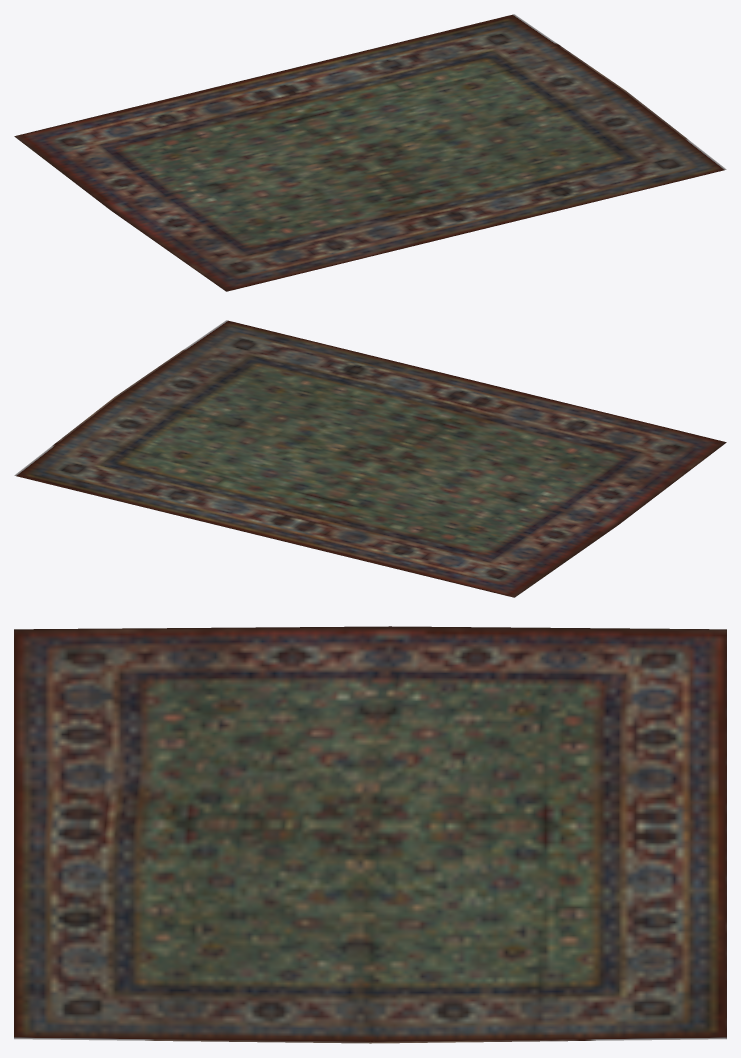
The model's file is Carpet.fbx.
The picture shows the model from 3 angles, top to bottom: view 1: azimuth 30°, elevation 25°; view 2: azimuth 150°, elevation 25°; view 3: azimuth 270°, elevation 25°; orthographic projection. The views are drawn at different scales.
Visible parts, largest first — view 1: Carpet; view 2: Carpet; view 3: Carpet.
Boxes of the visible parts, x1,y1,x2,y2 form: Carpet: (14, 14, 726, 291); Carpet: (14, 320, 726, 597); Carpet: (14, 626, 726, 1043).
Size of the model in its own units: 554 by 2.42e-05 by 400.
Materials: 1 (1 with a texture image).
